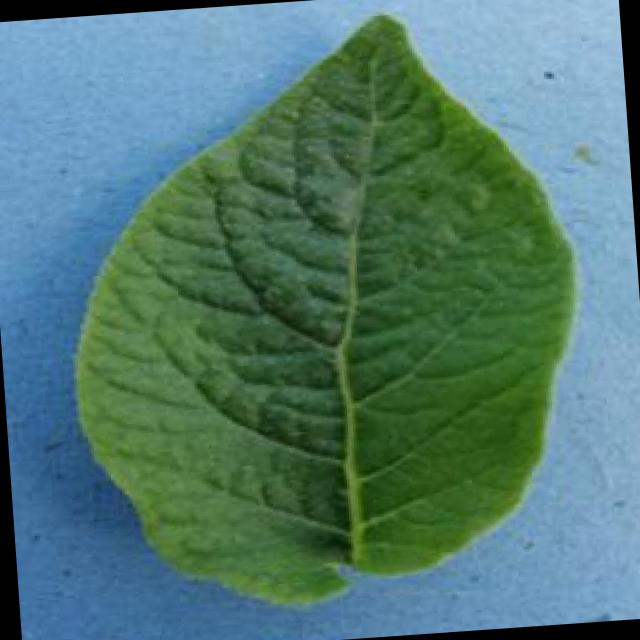Potato_Healthy: (49, 0, 596, 614)
